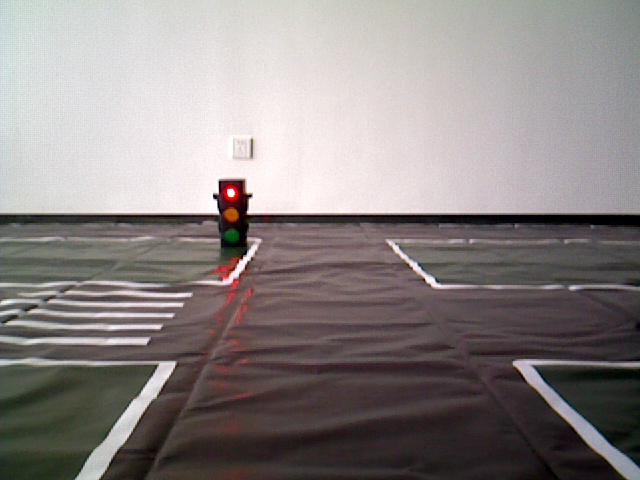red: (219, 179, 245, 250)
